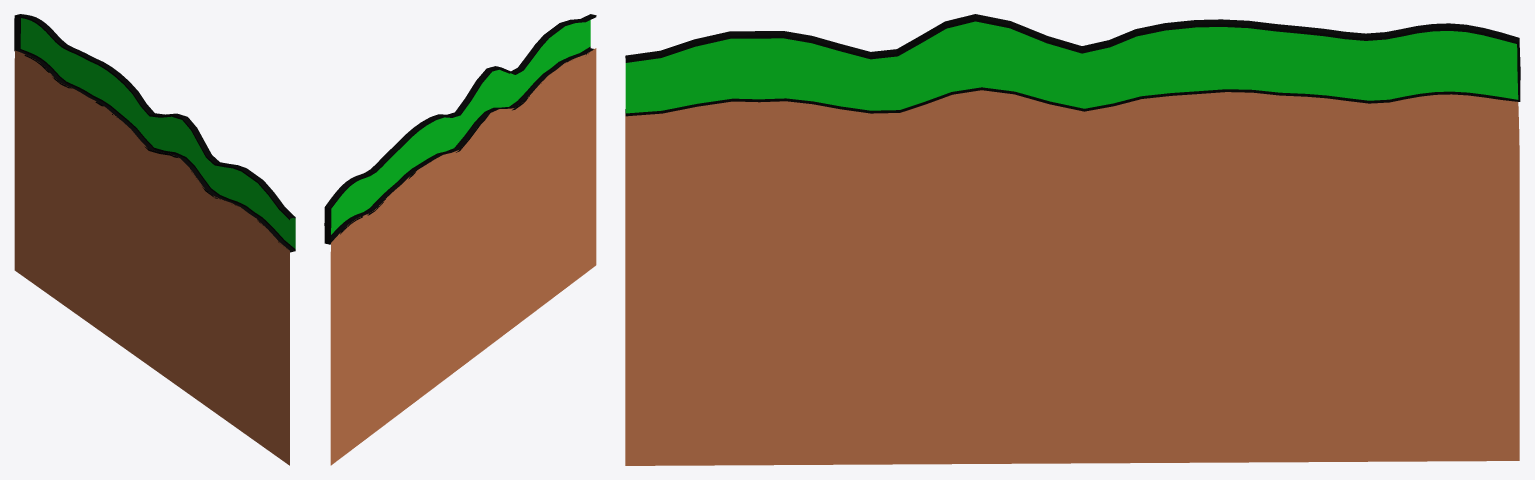
The model's file is Platform09.fbx.
3 renders of one model, left to right at view 1: azimuth 30°, elevation 25°; view 2: azimuth 150°, elevation 25°; view 3: azimuth 270°, elevation 25°, orthographic. The views are drawn at different scales.
Parts seen in each view (by area): view 1: Plane.015; view 2: Plane.015; view 3: Plane.015.
Boxes of the visible parts, x1,y1,x2,y2 form: Plane.015: (14,14,295,465); Plane.015: (324,14,596,465); Plane.015: (625,14,1520,465).
Bounding box in the file's own units: 70.69 × 1538 × 2773.
